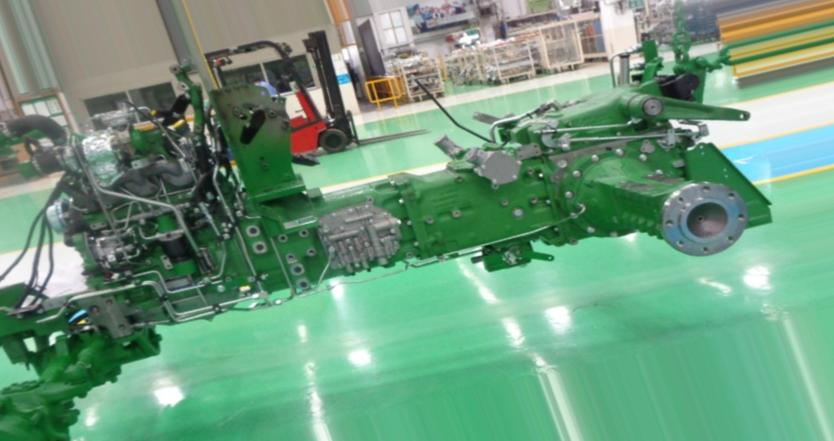engine: (0, 35, 774, 438)
